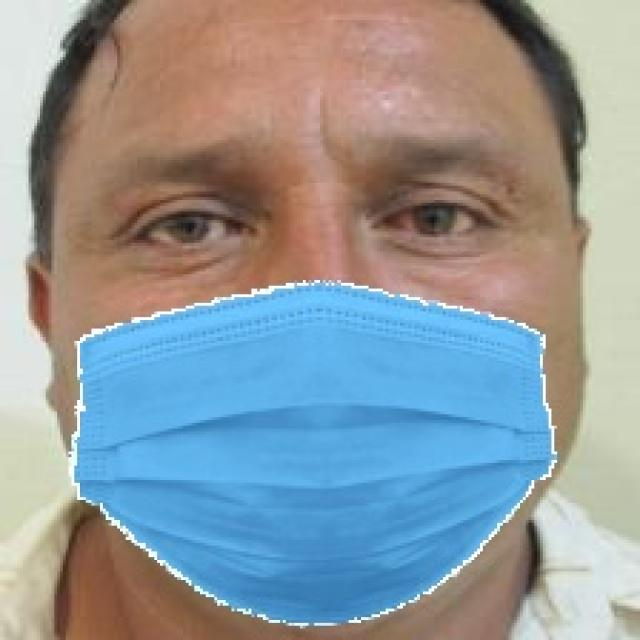mask: (59, 284, 581, 612)
